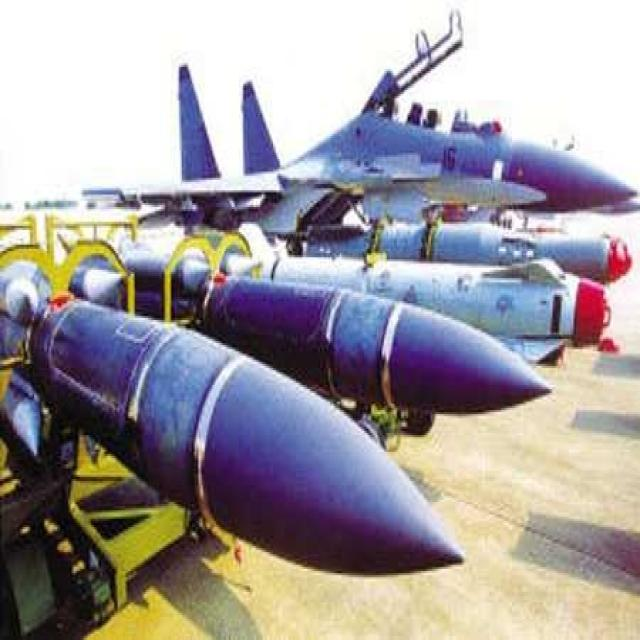missile: (15, 296, 464, 594), (188, 286, 556, 416), (217, 248, 614, 346), (369, 214, 631, 284)
